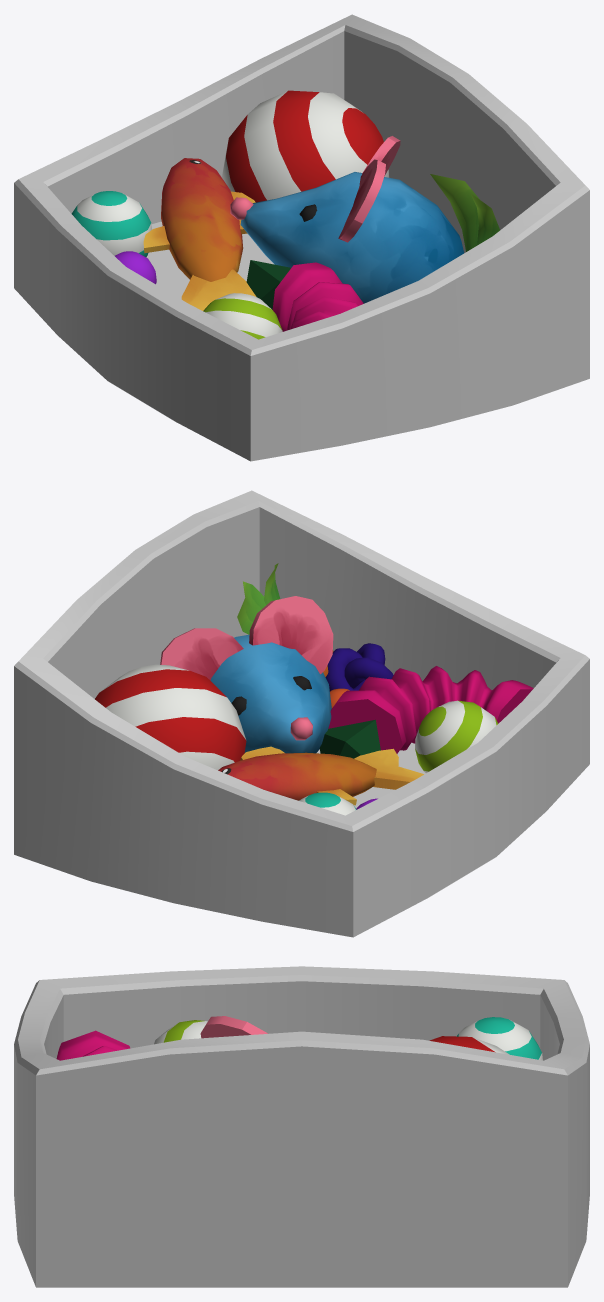
File: Toy_Box.FBX
3 views of the same model, one above another, from view 1: azimuth 30°, elevation 25°; view 2: azimuth 150°, elevation 25°; view 3: azimuth 270°, elevation 25° (orthographic). The views are drawn at different scales.
Visible parts, largest first — view 1: Toy_Box, Toy_Mouse, Toy_Ball, Toy_Fish, Toy_Slinky, Toy_Ball001, Toy_Fruit, Toy_Ball003, Toy_Toy, Toy_Ball002; view 2: Toy_Box, Toy_Mouse, Toy_Ball, Toy_Slinky, Toy_Fish, Toy_Ball003, Toy_Knot, Toy_Toy, Toy_Fruit, Toy_Ball001; view 3: Toy_Box, Toy_Ball001, Toy_Slinky, Toy_Mouse, Toy_Ball003, Toy_Ball.
Boxes of the visible parts, x1,y1,x2,y2 form: Toy_Box: (14, 14, 589, 461); Toy_Mouse: (230, 136, 463, 303); Toy_Ball: (222, 90, 389, 235); Toy_Fish: (143, 158, 256, 310); Toy_Slinky: (272, 262, 363, 331); Toy_Ball001: (71, 191, 152, 257); Toy_Fruit: (430, 174, 499, 251); Toy_Ball003: (203, 293, 282, 339); Toy_Toy: (246, 260, 290, 309); Toy_Ball002: (115, 251, 156, 284); Toy_Box: (14, 490, 589, 937); Toy_Mouse: (160, 596, 333, 753); Toy_Ball: (95, 664, 246, 770); Toy_Slinky: (328, 666, 533, 753); Toy_Fish: (218, 746, 423, 805); Toy_Ball003: (415, 700, 498, 773); Toy_Knot: (325, 643, 393, 691); Toy_Toy: (319, 719, 380, 758); Toy_Fruit: (237, 563, 333, 676); Toy_Ball001: (299, 792, 356, 815); Toy_Box: (14, 966, 589, 1287); Toy_Ball001: (456, 1017, 542, 1060); Toy_Slinky: (56, 1030, 130, 1060); Toy_Mouse: (200, 1016, 267, 1038); Toy_Ball003: (154, 1020, 207, 1044); Toy_Ball: (429, 1036, 509, 1054).
Bounding box in the file's own units: 91.43 × 52.49 × 111.
